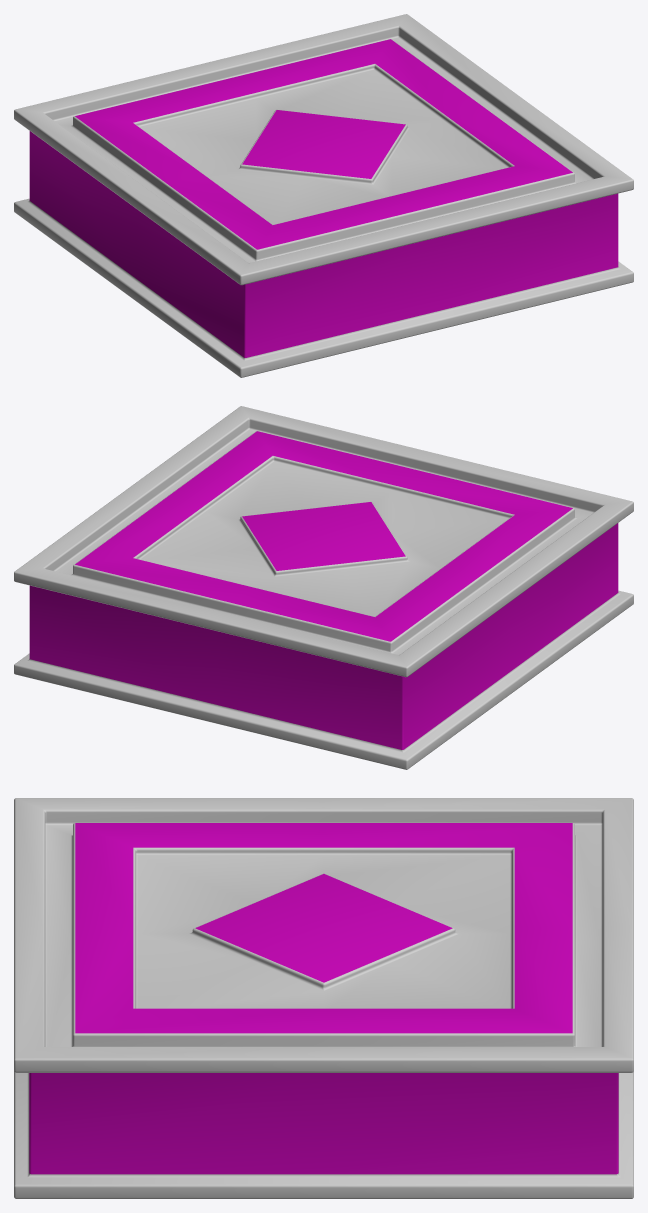
File: platform_pink.fbx
3 renders of one model, top to bottom at view 1: azimuth 30°, elevation 25°; view 2: azimuth 150°, elevation 25°; view 3: azimuth 270°, elevation 25°, orthographic. The views are drawn at different scales.
Parts seen in each view (by area): view 1: Würfel_4; view 2: Würfel_4; view 3: Würfel_4.
Part boxes in pixels (<box>): Würfel_4: <box>14,14,633,377</box>; Würfel_4: <box>14,406,633,769</box>; Würfel_4: <box>14,798,633,1198</box>.
Size of the model in its own units: 400 by 100 by 400.
